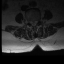CCS_normal: (33, 18, 34, 28)
LFS_normal: (36, 17, 38, 24)
LLS_normal: (34, 18, 36, 27)
RFS_normal: (29, 18, 31, 25)
RLS_normal: (31, 18, 33, 27)
